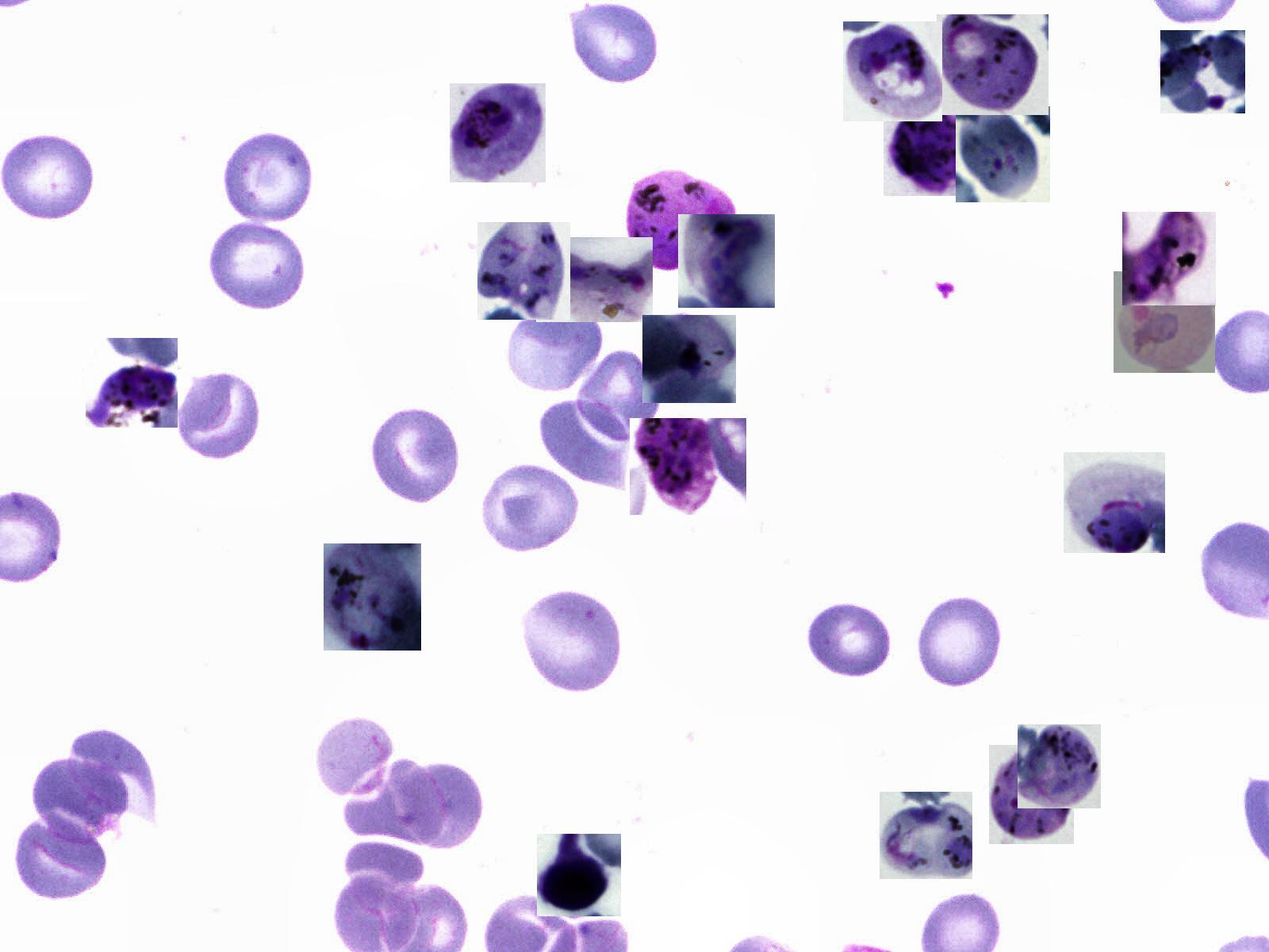Infected: (937, 14, 1049, 115), (630, 418, 746, 515), (626, 170, 742, 266), (324, 543, 421, 651), (1114, 271, 1215, 373), (1064, 452, 1165, 553), (536, 237, 653, 322), (843, 21, 942, 121), (450, 83, 546, 182), (678, 214, 775, 308), (477, 222, 570, 320), (956, 107, 1050, 203), (884, 102, 979, 196), (1122, 212, 1216, 305), (989, 745, 1074, 844), (86, 338, 178, 428), (643, 315, 737, 403), (880, 792, 972, 879), (1160, 30, 1245, 113), (1018, 724, 1101, 808), (537, 834, 621, 916)
Uninfected: (520, 589, 627, 697), (207, 221, 307, 316), (69, 729, 159, 831), (372, 404, 462, 505), (343, 759, 446, 846), (221, 132, 316, 226), (1, 136, 101, 225), (386, 762, 488, 849), (504, 308, 608, 393), (480, 462, 578, 552), (13, 814, 112, 902), (539, 400, 632, 493), (33, 750, 132, 836), (176, 368, 262, 464), (575, 349, 662, 443), (918, 595, 1006, 687), (573, 0, 663, 86), (309, 715, 397, 802), (807, 601, 892, 681), (342, 842, 426, 915)
